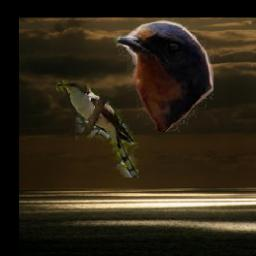Cuckoo: (57, 80, 139, 177)
Swallow: (115, 19, 214, 133)
